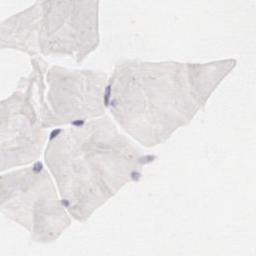nucleus: (49, 128, 63, 140), (103, 85, 110, 107), (33, 161, 43, 174), (70, 119, 86, 127), (141, 155, 155, 163), (131, 171, 141, 180), (59, 199, 69, 207)
